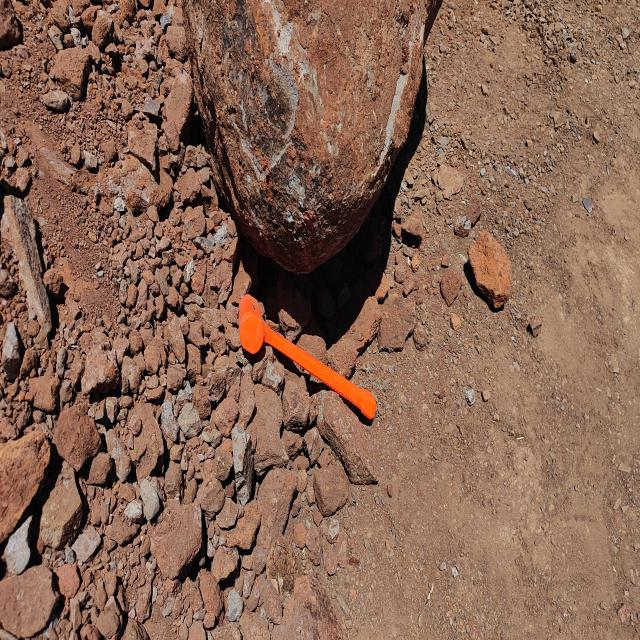Orange_hammer: (237, 292, 377, 422)
